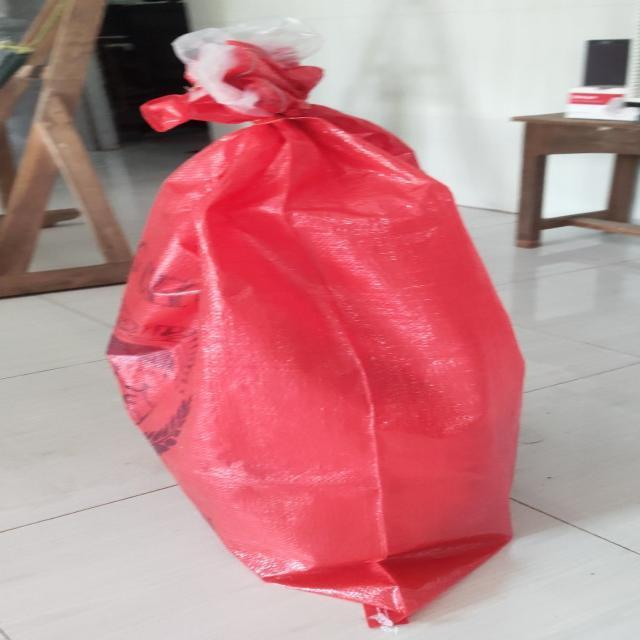gunny_bag: (106, 16, 523, 628)
